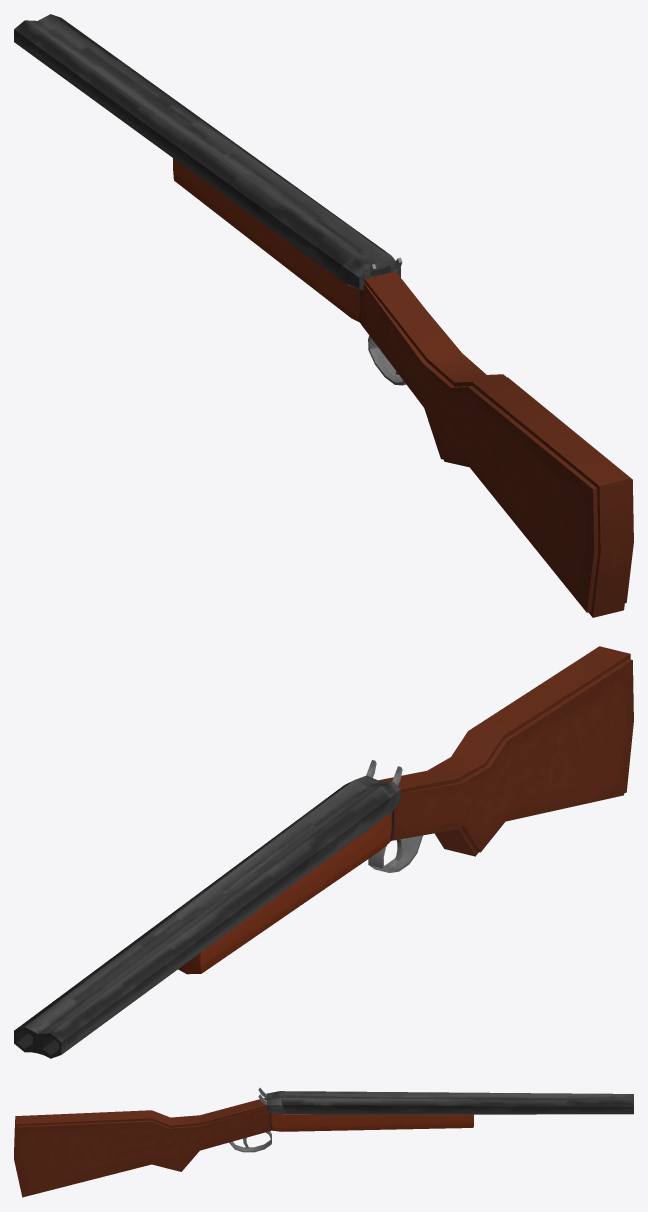
File: textured_shotgun_test01.fbx
3 renders of one model, top to bottom at view 1: azimuth 30°, elevation 25°; view 2: azimuth 150°, elevation 25°; view 3: azimuth 270°, elevation 25°, orthographic. The views are drawn at different scales.
Parts seen in each view (by area): view 1: 1_bareltrig; view 2: 1_bareltrig; view 3: 1_bareltrig.
Boxes of the visible parts, box(x1,y1,x2,y2) form: 1_bareltrig: box(14, 14, 633, 617); 1_bareltrig: box(14, 646, 633, 1058); 1_bareltrig: box(14, 1087, 633, 1197).
Bounding box in the file's own units: 20.78 × 79.88 × 439.
1 material, 1 textured.
